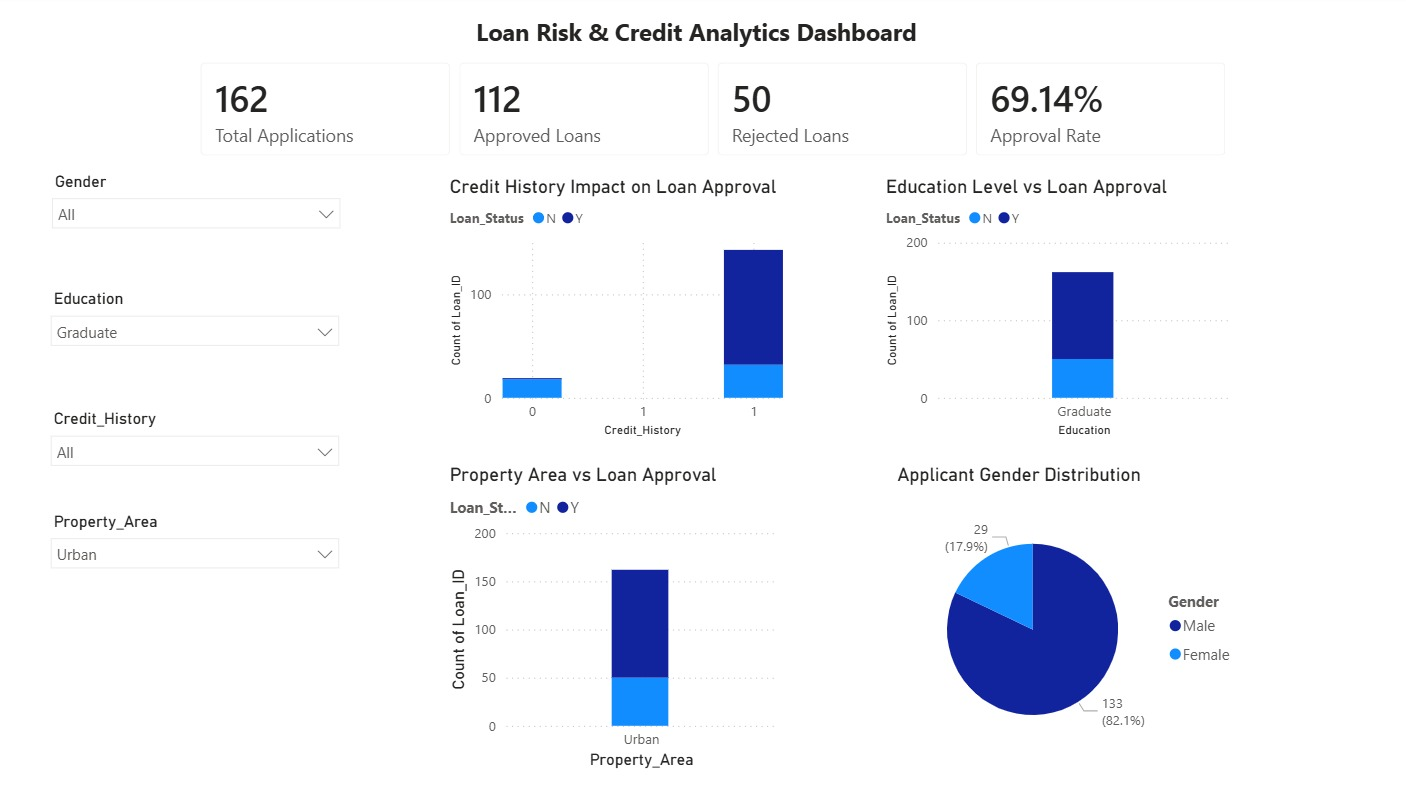

Layout of this report page (visuals, bound fields, positions):
{"tool":"powerbi","page":{"name":"Page 1","canvas":[1280,720],"ordinal":0},"visuals":[{"type":"cardVisual","fields":{"Data":["cleaned_loan_data.Total Applications","cleaned_loan_data.Approved Loans","cleaned_loan_data.Rejected Loans","cleaned_loan_data.Approval Rate"]},"box":[170,44,961.1,118.6],"z":0},{"type":"columnChart","title":"Credit History Impact on Loan Approval","fields":{"Category":["cleaned_loan_data.Credit_History"],"Y":["CountNonNull(cleaned_loan_data.Loan_ID)"],"Series":["cleaned_loan_data.Loan_Status"]},"box":[407.2,162.6,310.6,240.9],"z":1000},{"type":"columnChart","title":"Education Level vs Loan Approval","fields":{"Category":["cleaned_loan_data.Education"],"Y":["CountNonNull(cleaned_loan_data.Loan_ID)"],"Series":["cleaned_loan_data.Loan_Status"]},"box":[799.7,162.6,320.4,240.9],"z":2000},{"type":"columnChart","title":"Property Area vs Loan Approval","fields":{"Category":["cleaned_loan_data.Property_Area"],"Y":["CountNonNull(cleaned_loan_data.Loan_ID)"],"Series":["cleaned_loan_data.Loan_Status"]},"box":[407.2,423.1,304.5,280],"z":3000},{"type":"pieChart","title":"Applicant Gender Distribution","fields":{"Category":["cleaned_loan_data.Gender"],"Y":["CountNonNull(cleaned_loan_data.Loan_ID)"]},"box":[810.7,423.1,320.4,280],"z":4000},{"type":"slicer","fields":{"Values":["cleaned_loan_data.Gender"]},"box":[42.8,154.1,280,70.9],"z":5000},{"type":"slicer","fields":{"Values":["cleaned_loan_data.Education"]},"box":[41.6,260.5,280,70.9],"z":6000},{"type":"slicer","fields":{"Values":["cleaned_loan_data.Property_Area"]},"box":[41.6,461,280,70.9],"z":7000},{"type":"slicer","fields":{"Values":["cleaned_loan_data.Credit_History"]},"box":[41.6,368.1,280,70.9],"z":8000},{"type":"textbox","box":[1130,163,150,241],"z":10000},{"type":"textbox","box":[430.4,13.5,440.2,40.4],"z":10001}]}

Visuals, with their boxes in screenshot pixels (x1, y1, x2, y2), scaled from the page's 1280x720 canvas onto the 1406x789 screenshot:
cardVisual - cleaned_loan_data.Total Applications x cleaned_loan_data.Approved Loans: pyautogui.locateOnScreen(187, 48, 1242, 178)
"Credit History Impact on Loan Approval" columnChart: pyautogui.locateOnScreen(447, 178, 788, 442)
"Education Level vs Loan Approval" columnChart: pyautogui.locateOnScreen(878, 178, 1230, 442)
"Property Area vs Loan Approval" columnChart: pyautogui.locateOnScreen(447, 464, 782, 770)
"Applicant Gender Distribution" pieChart: pyautogui.locateOnScreen(891, 464, 1242, 770)
slicer - cleaned_loan_data.Gender: pyautogui.locateOnScreen(47, 169, 355, 247)
slicer - cleaned_loan_data.Education: pyautogui.locateOnScreen(46, 285, 353, 363)
slicer - cleaned_loan_data.Property_Area: pyautogui.locateOnScreen(46, 505, 353, 583)
slicer - cleaned_loan_data.Credit_History: pyautogui.locateOnScreen(46, 403, 353, 481)
textbox: pyautogui.locateOnScreen(1241, 179, 1405, 443)
textbox: pyautogui.locateOnScreen(473, 15, 956, 59)
